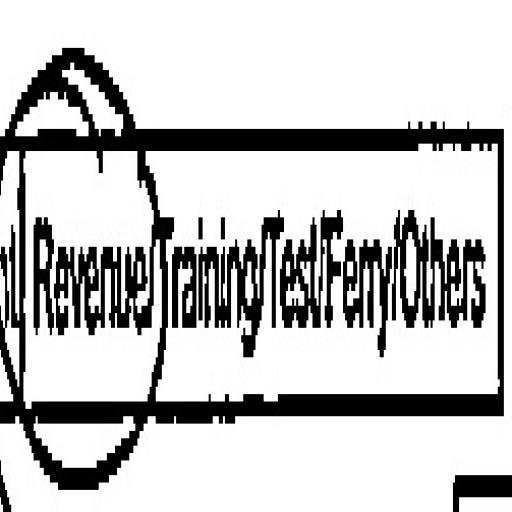check: (0, 14, 155, 492)
